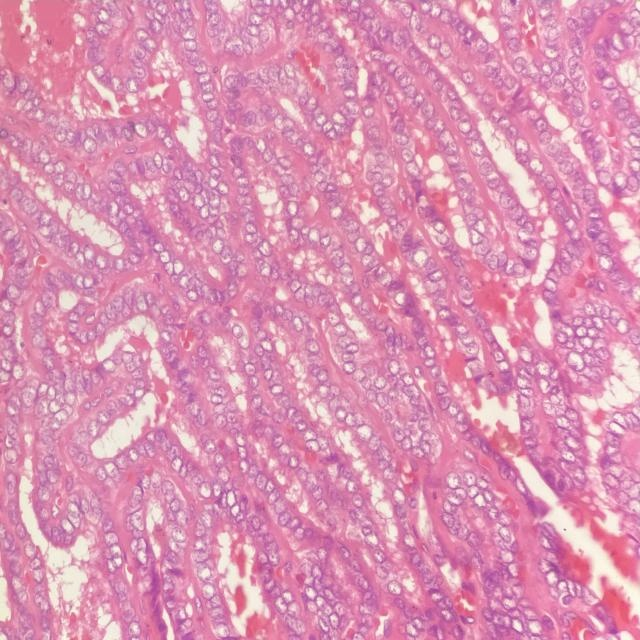TC: (453, 349, 495, 389), (563, 457, 596, 495), (494, 254, 527, 287), (331, 256, 366, 286), (190, 474, 218, 511), (205, 405, 235, 439), (111, 385, 137, 420), (120, 511, 150, 537), (301, 432, 326, 463), (442, 464, 465, 496), (102, 458, 126, 487), (162, 525, 190, 548), (196, 579, 221, 604), (328, 318, 353, 343), (416, 274, 440, 300), (495, 522, 517, 549), (57, 516, 79, 543), (270, 594, 291, 622), (352, 419, 374, 445), (168, 254, 188, 282), (228, 317, 247, 343), (374, 390, 392, 415), (533, 358, 550, 382)
